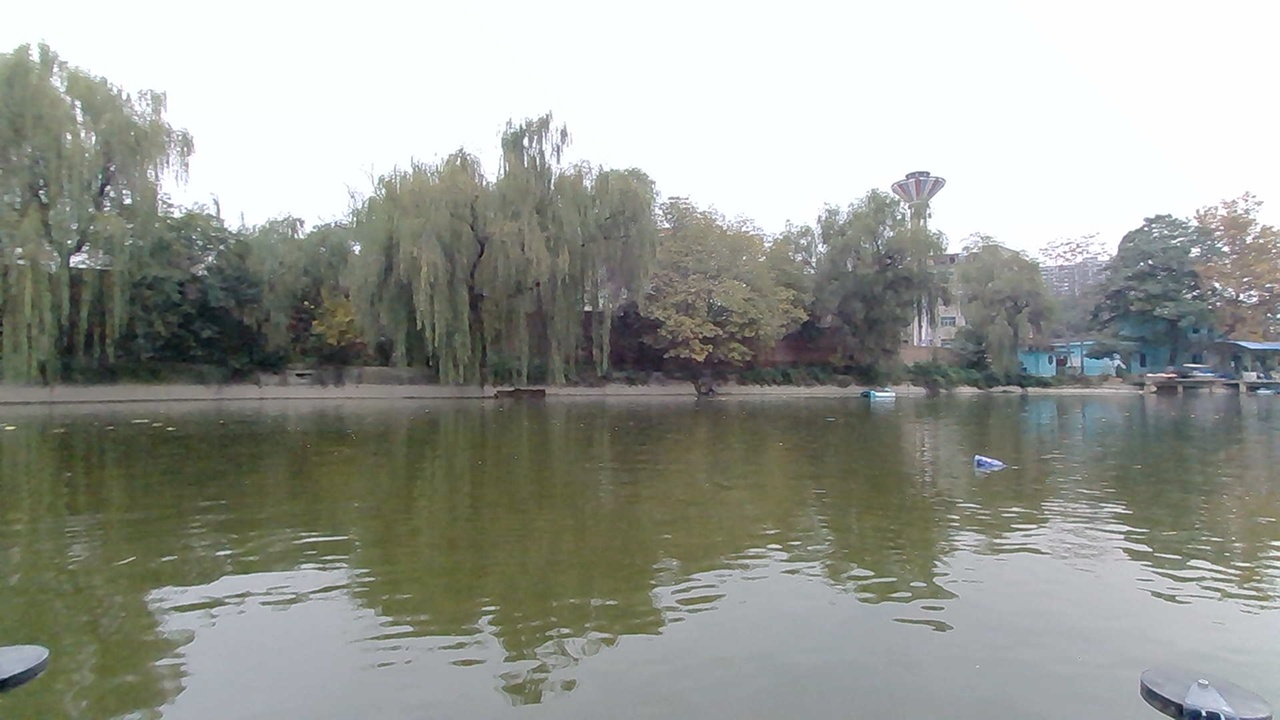bottle: (965, 448, 1010, 482)
